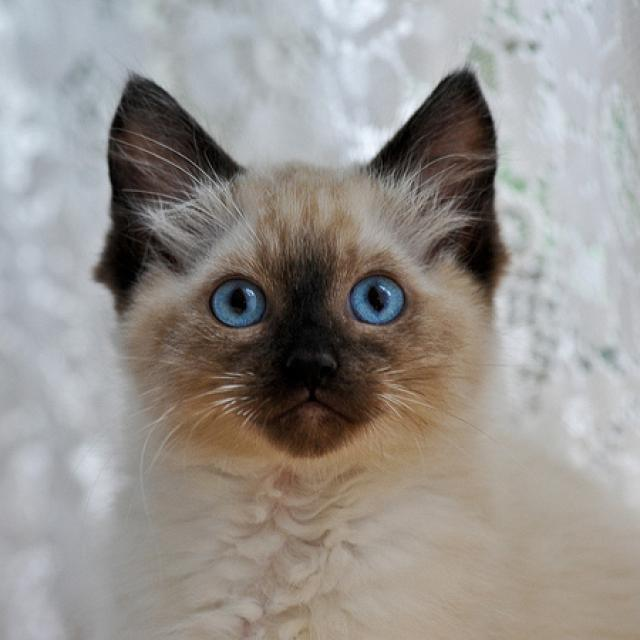Ragdoll: (82, 59, 639, 640)
